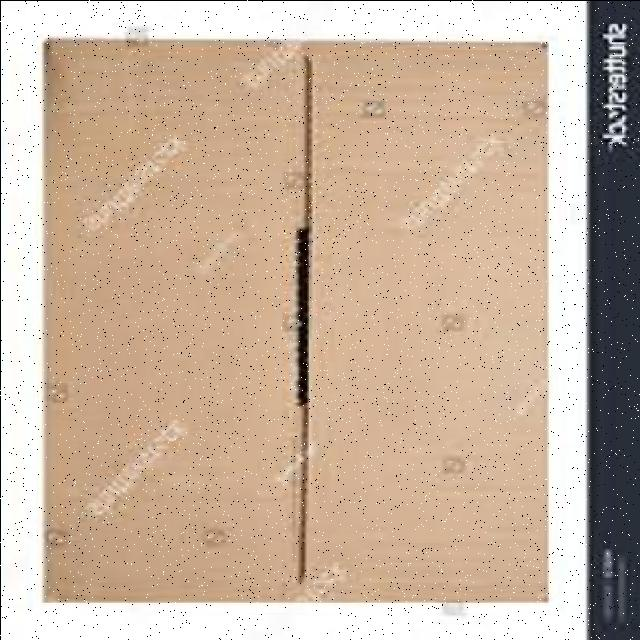defect: (32, 31, 557, 612)
